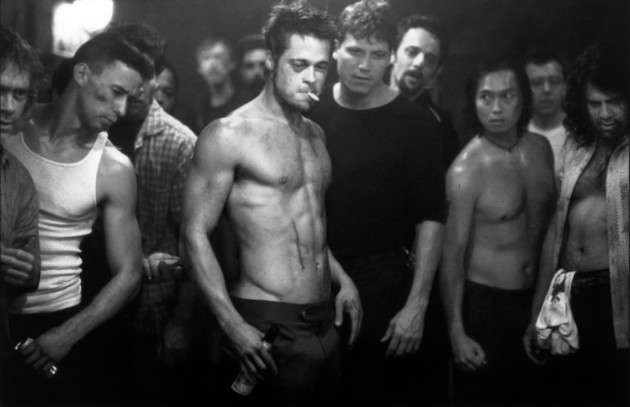cigarette: (302, 86, 320, 102)
